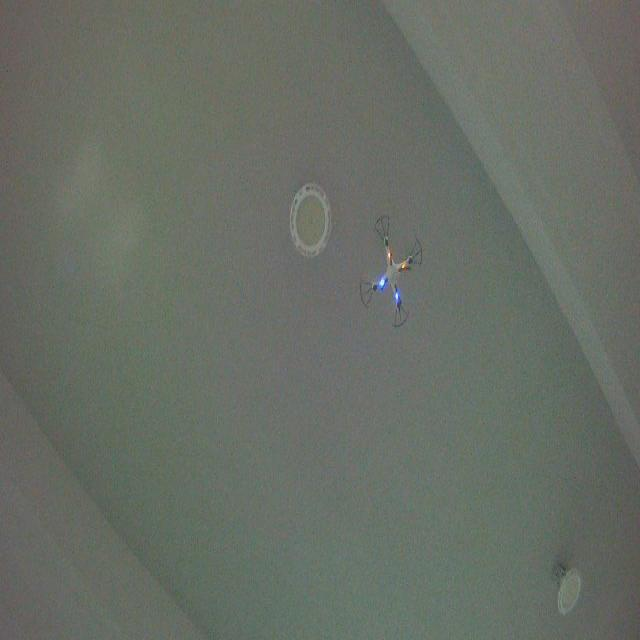drone: (358, 212, 426, 332)
